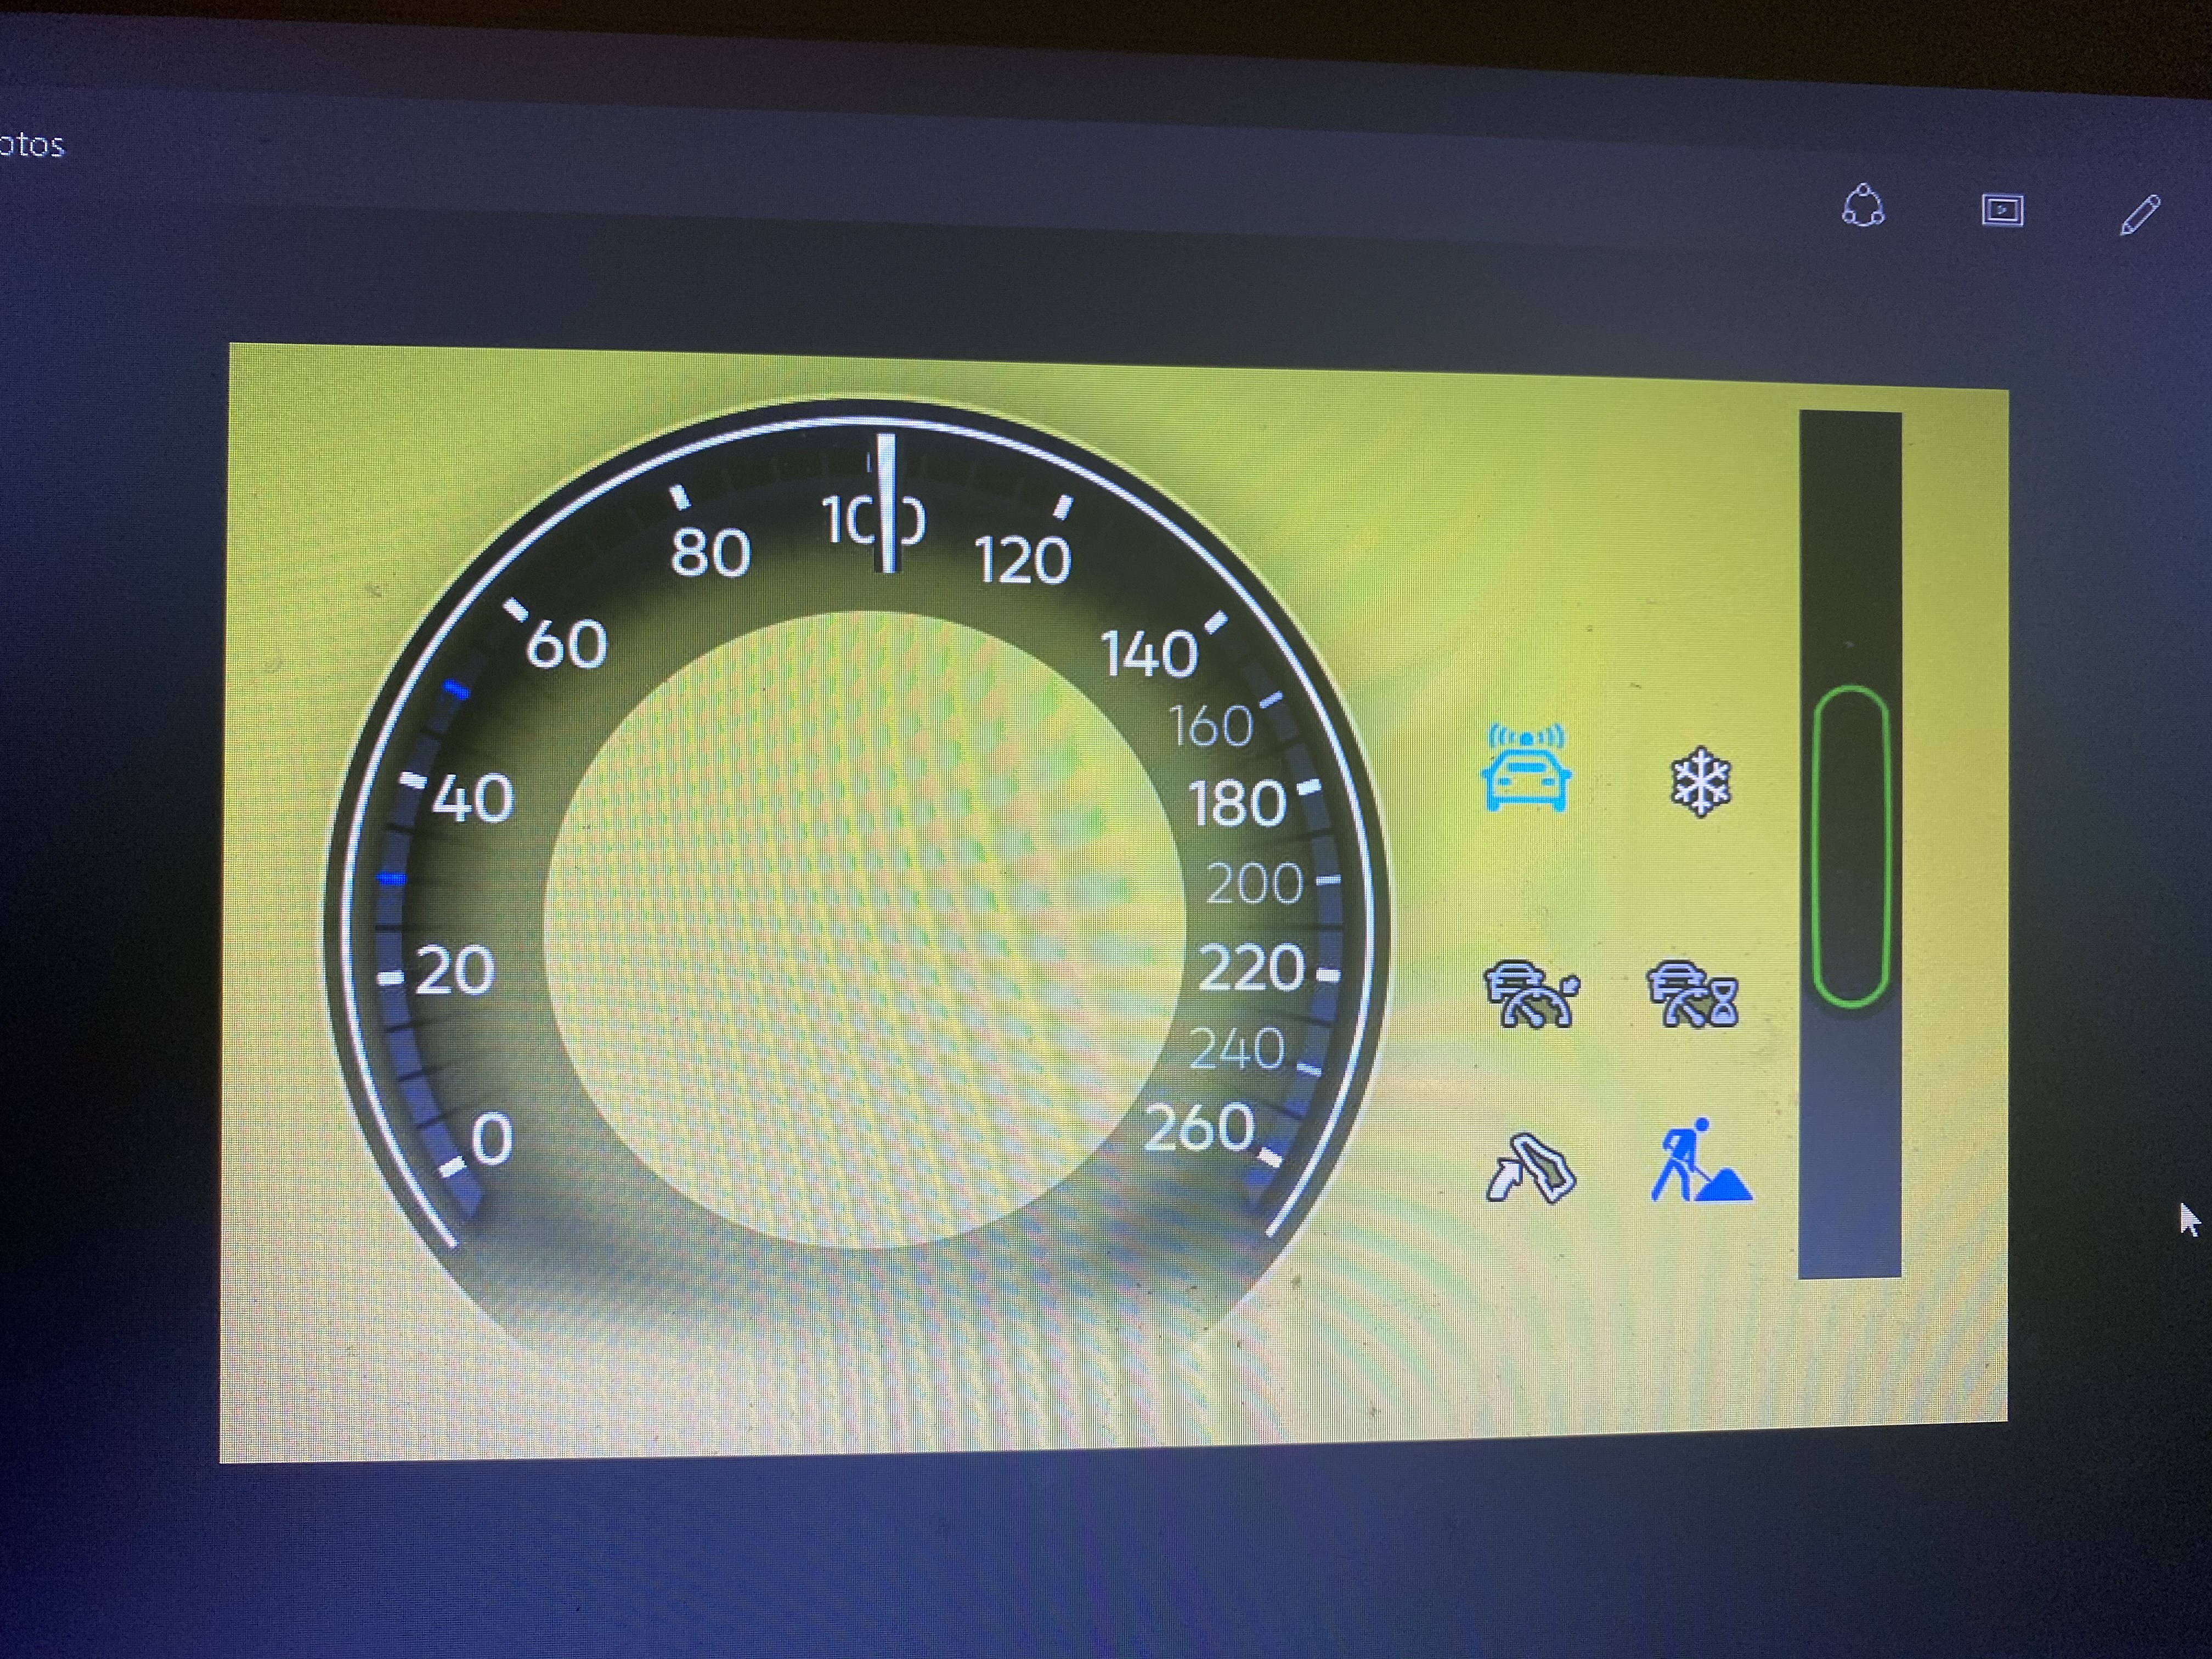ACCELERATOR: (1461, 1107, 1606, 1243)
ACC_AKTIV: (1468, 934, 1606, 1044)
ACC_WAITING: (1639, 941, 1763, 1054)
CONSTRUCTION: (1637, 1103, 1773, 1223)
EISSTERN: (1660, 721, 1752, 840)
SEV_INF: (1465, 694, 1601, 836)
SLIDER: (1791, 667, 1918, 1035)
TUBE: (305, 390, 1423, 1406)
